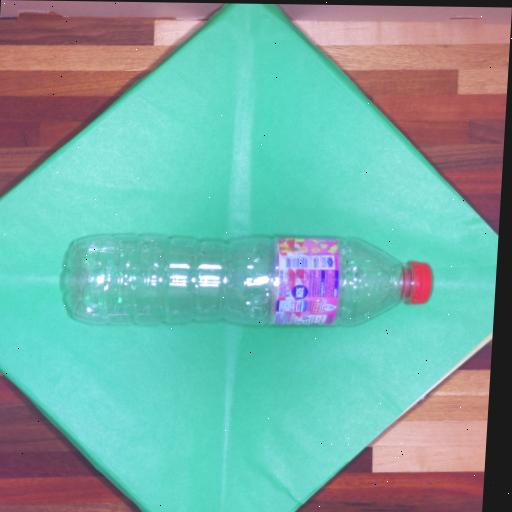bottle: (45, 216, 450, 348)
